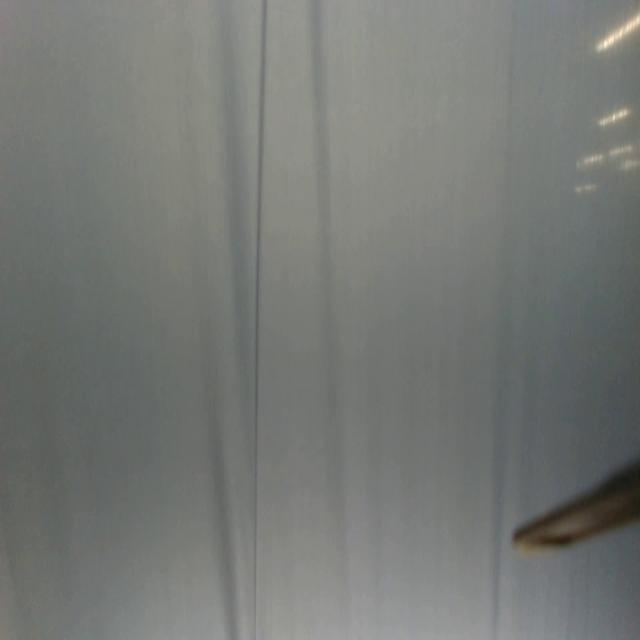crease: (251, 1, 270, 640)
